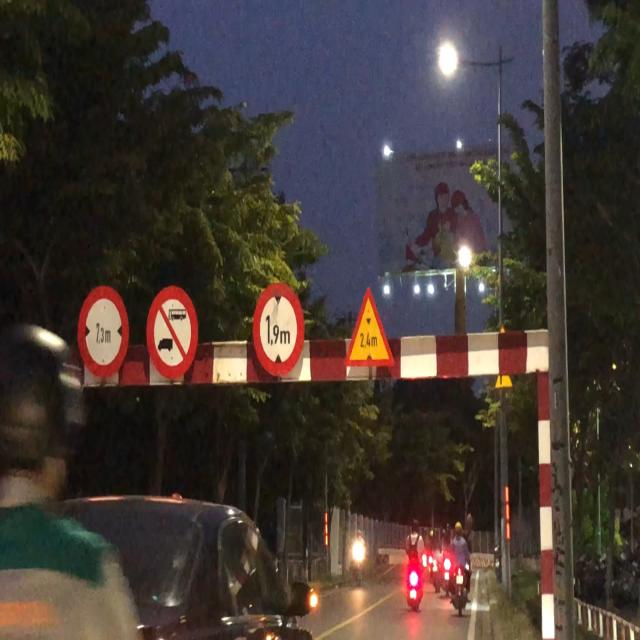Bien bao cam xe oto khach va xe oto tai: (146, 278, 202, 388)
Bien bao chieu cao tinh khong thuc te: (343, 274, 396, 377)
Bien bao han che chieu cao: (252, 272, 310, 389)
